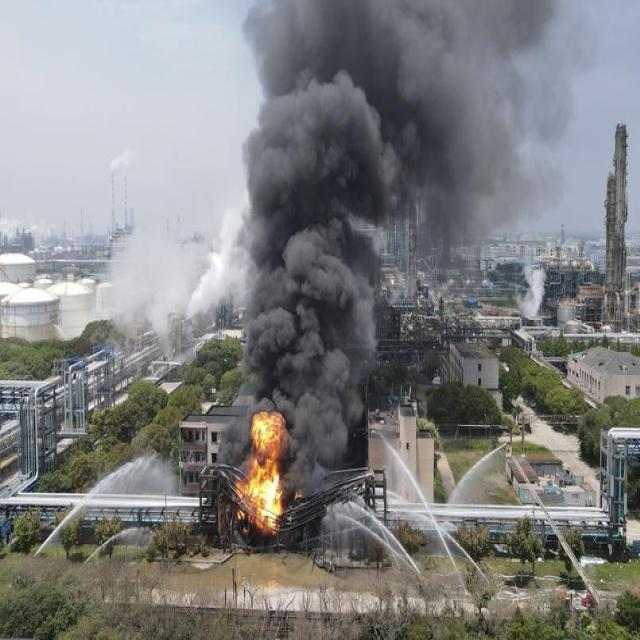Fire: (234, 412, 284, 534)
Smoke: (237, 0, 565, 235), (233, 235, 374, 413)
